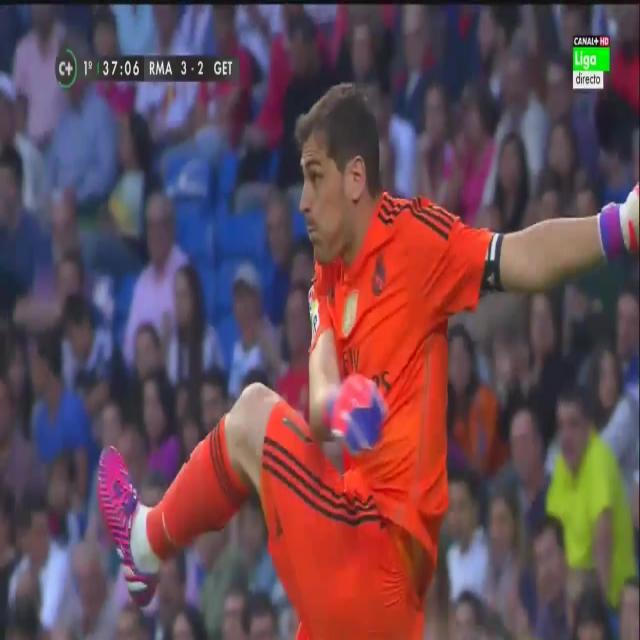Goalkeeper: (96, 84, 640, 638)
